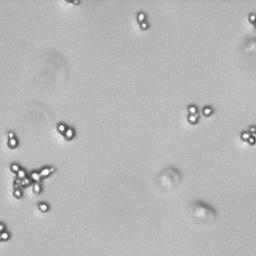budding: (239, 123, 256, 146), (56, 123, 76, 141), (186, 104, 200, 125), (135, 11, 149, 30), (6, 130, 18, 149)
cluster: (6, 160, 57, 200)
individual: (37, 201, 50, 212), (202, 105, 212, 116)
